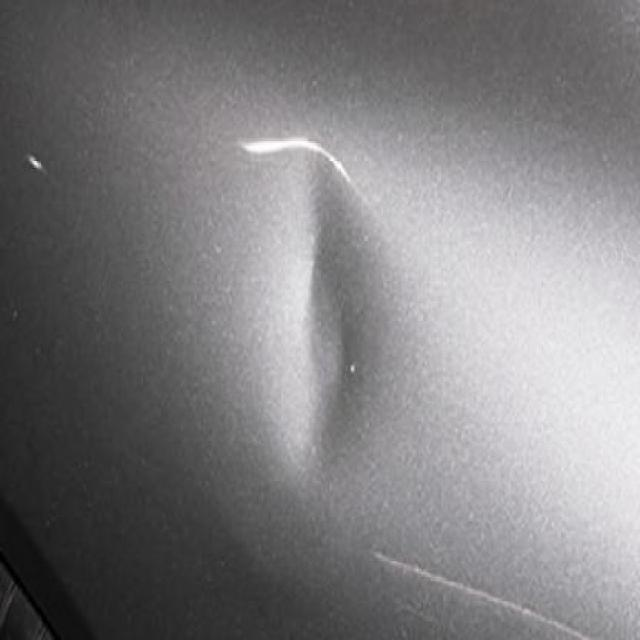dent: (275, 124, 381, 495)
